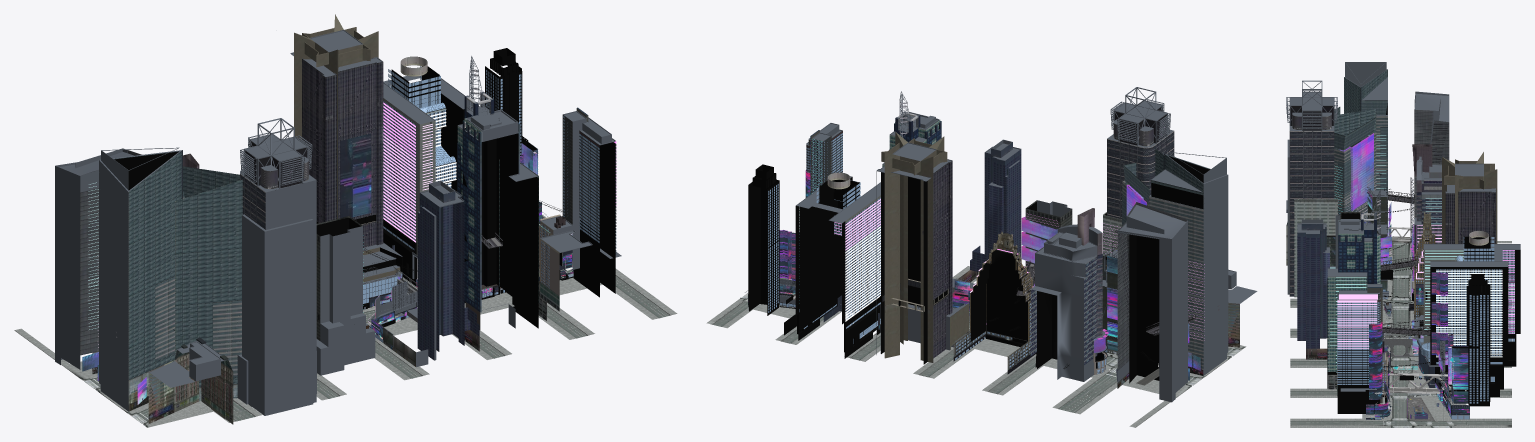
The model's file is citywithoutglobe.glb.
3 renders of one model, left to right at view 1: azimuth 30°, elevation 25°; view 2: azimuth 150°, elevation 25°; view 3: azimuth 270°, elevation 25°, orthographic. The views are drawn at different scales.
Parts seen in each view (by area): view 1: Object_180, Object_138, Object_26, Object_180.002, Object_41, Object_180.001, Object_113, Object_104, Object_32, Object_17, Object_38, Object_44 (+7 smaller); view 2: Object_26, Object_180, Object_41, Object_104, Object_32, Object_44, Object_113, Object_17, Object_38, Object_180.001, Object_44.002, Object_186 (+7 smaller); view 3: Object_180, Object_17, Object_32, Object_41, Object_44, Object_26, Object_180.002, Object_38, Object_180.001, Object_44.001, Object_104, Object_11.033 (+29 smaller).
Boxes of the visible parts, <box> form: Object_180: <box>80,58,538,360</box>; Object_138: <box>237,56,518,415</box>; Object_26: <box>114,66,615,328</box>; Object_180.002: <box>175,166,251,406</box>; Object_41: <box>92,14,491,424</box>; Object_180.001: <box>114,150,182,404</box>; Object_113: <box>99,147,396,411</box>; Object_104: <box>55,30,382,369</box>; Object_32: <box>14,214,677,427</box>; Object_17: <box>363,66,616,342</box>; Object_38: <box>59,118,315,381</box>; Object_44: <box>355,48,536,309</box>; Object_26: <box>749,156,1209,383</box>; Object_180: <box>882,111,1187,370</box>; Object_41: <box>827,101,1239,388</box>; Object_104: <box>876,142,1187,402</box>; Object_32: <box>706,266,1245,427</box>; Object_44: <box>748,164,900,358</box>; Object_113: <box>880,152,1257,375</box>; Object_17: <box>768,133,1107,373</box>; Object_38: <box>1107,87,1236,289</box>; Object_180.001: <box>1149,154,1210,370</box>; Object_44.002: <box>834,222,880,321</box>; Object_186: <box>823,250,1200,380</box>; Object_180: <box>1289,92,1495,371</box>; Object_17: <box>1337,237,1514,419</box>; Object_32: <box>1290,241,1511,427</box>; Object_41: <box>1286,106,1514,343</box>; Object_44: <box>1418,250,1520,404</box>; Object_26: <box>1326,103,1502,413</box>; Object_180.002: <box>1334,107,1376,223</box>; Object_38: <box>1286,77,1448,267</box>; Object_180.001: <box>1344,69,1387,232</box>; Object_44.001: <box>1436,270,1502,357</box>; Object_104: <box>1387,91,1495,287</box>; Object_11.033: <box>1339,133,1373,210</box>.
Size of the model in its own units: 29.8 by 20.82 by 15.74.
31 materials, 16 textured.
